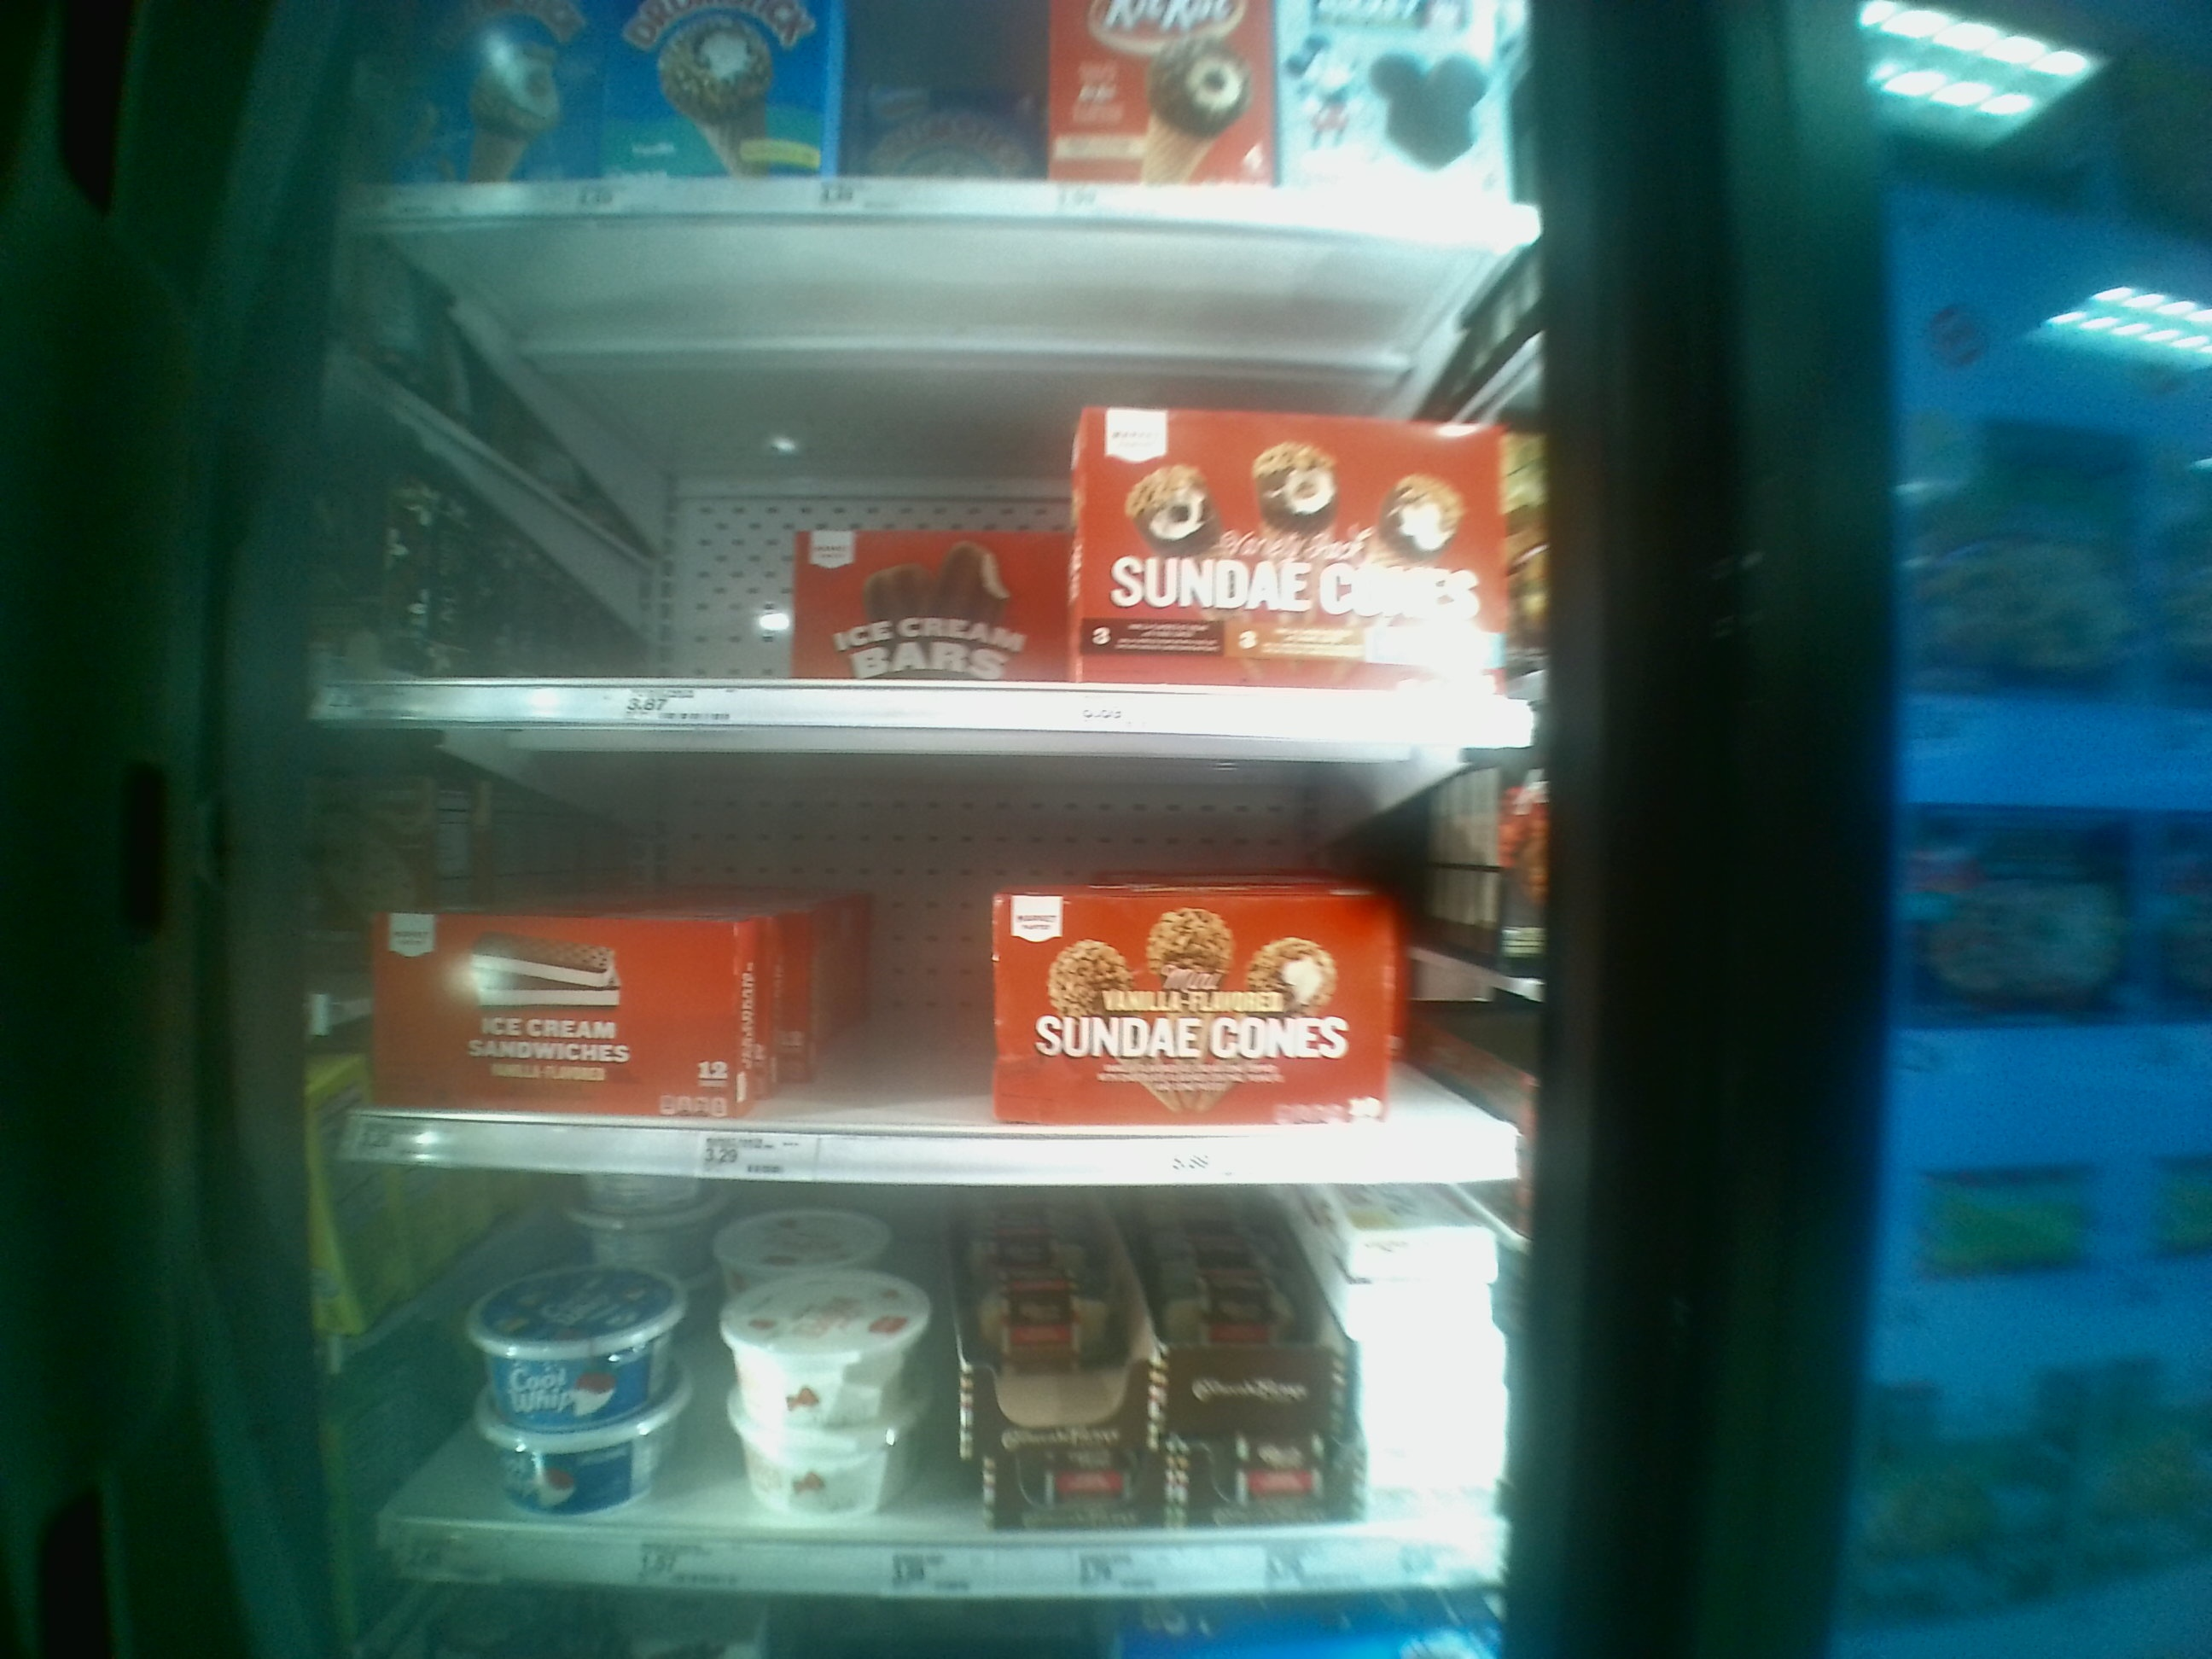shelf: (317, 235, 1507, 742), (301, 721, 1519, 1180), (341, 1148, 1543, 1600)
